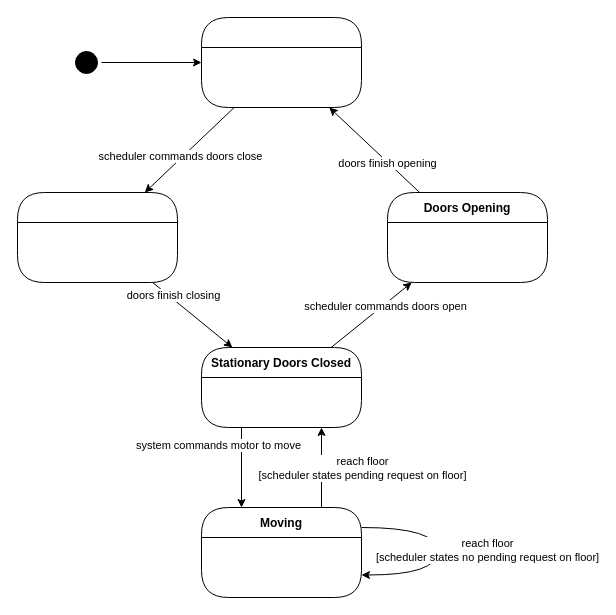
This 616x615 diagram has some shape labels left out. The shapes that lost their labels are listed below. From the top down, each one's centre as x and y in pixels, then its label:
At [281,62]: "Stationary Doors Open".
At [97,237]: "Doors Closing".
